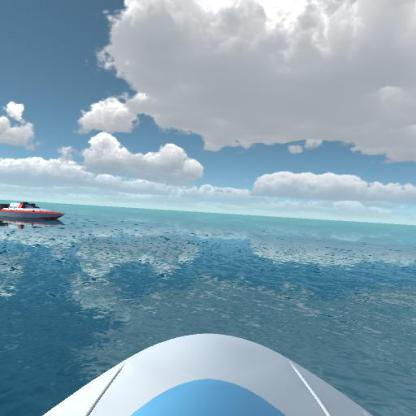usv3: (0, 194, 68, 231)
